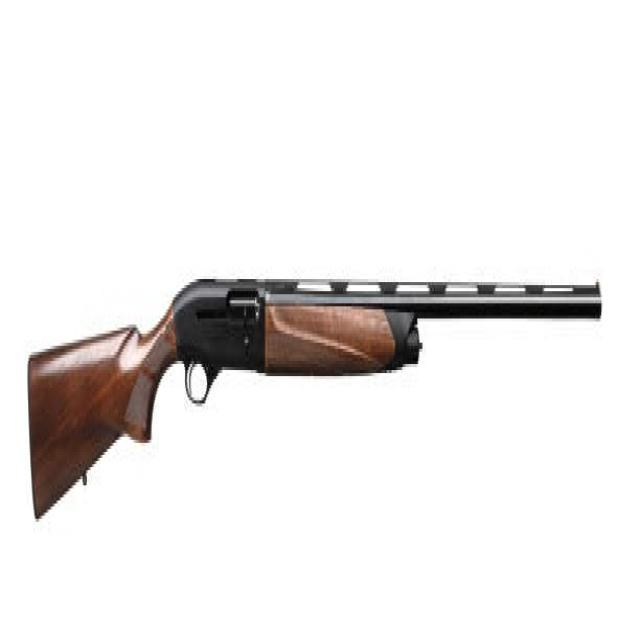rifle: (26, 261, 609, 543)
